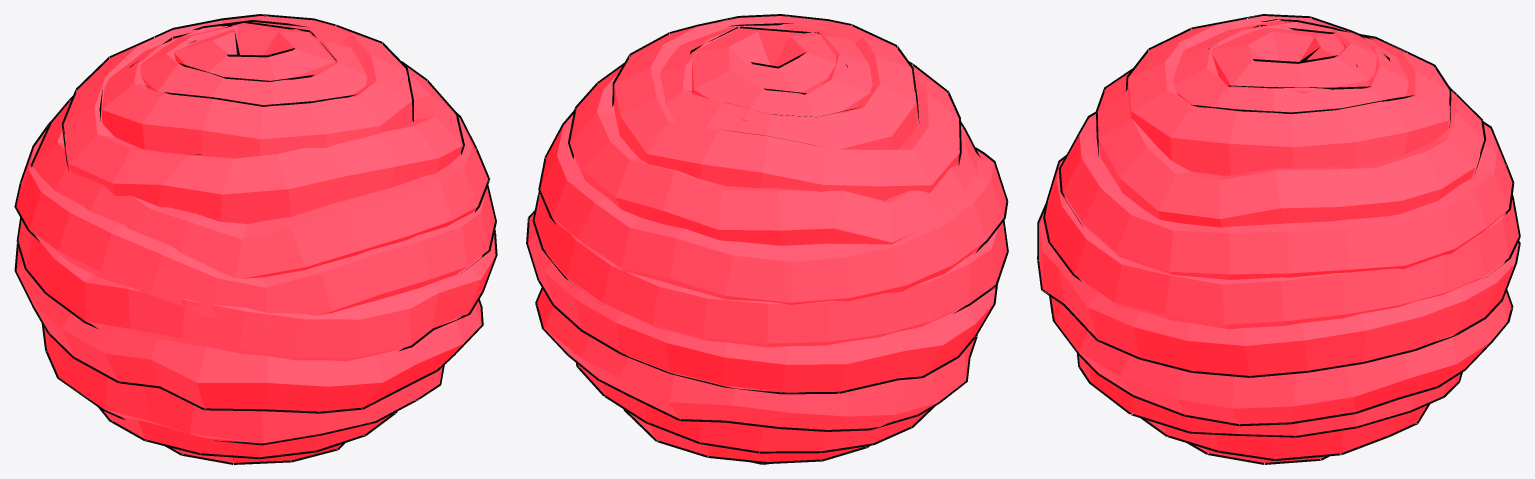
File: EnemyRed.fbx
3 views of the same model, side by side, from view 1: azimuth 30°, elevation 25°; view 2: azimuth 150°, elevation 25°; view 3: azimuth 270°, elevation 25° (orthographic).
Visible parts, largest first — view 1: Cylinder.005; view 2: Cylinder.005; view 3: Cylinder.005.
Part boxes in pixels (bbox=[...]): Cylinder.005: bbox=[14, 14, 497, 464]; Cylinder.005: bbox=[526, 14, 1008, 464]; Cylinder.005: bbox=[1037, 14, 1520, 464].
Bounding box in the file's own units: 234 × 213 × 234.
